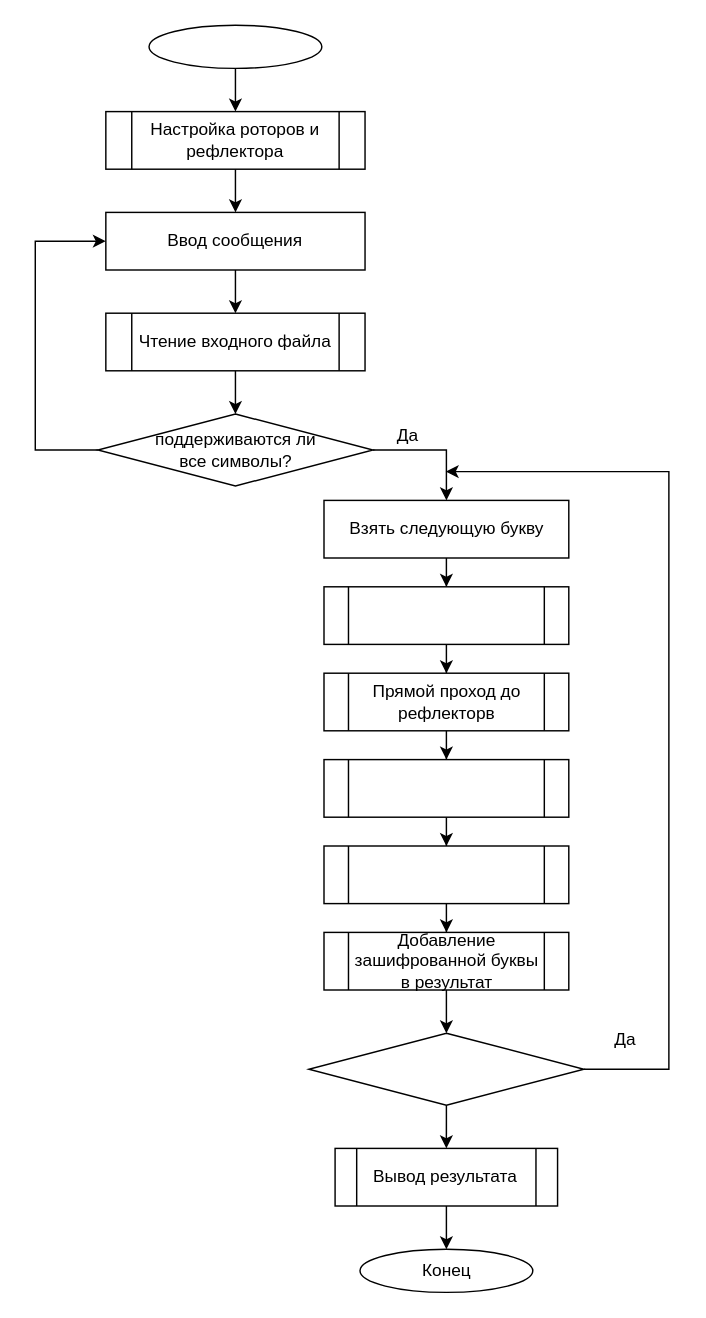
Some shapes in this 706 by 1318 pixel diagram are drawn without their labels. The shapes that lost their labels are listed below. From the top down, each one's centre as x and y in pixels, then its label:
the point at 235,46: Начало
the point at 446,614: Произвести сдвиг роторов
the point at 446,787: Отражение в рефекторе
the point at 446,874: Обратный проход
the point at 445,1068: Остались ли буквы в строке?
